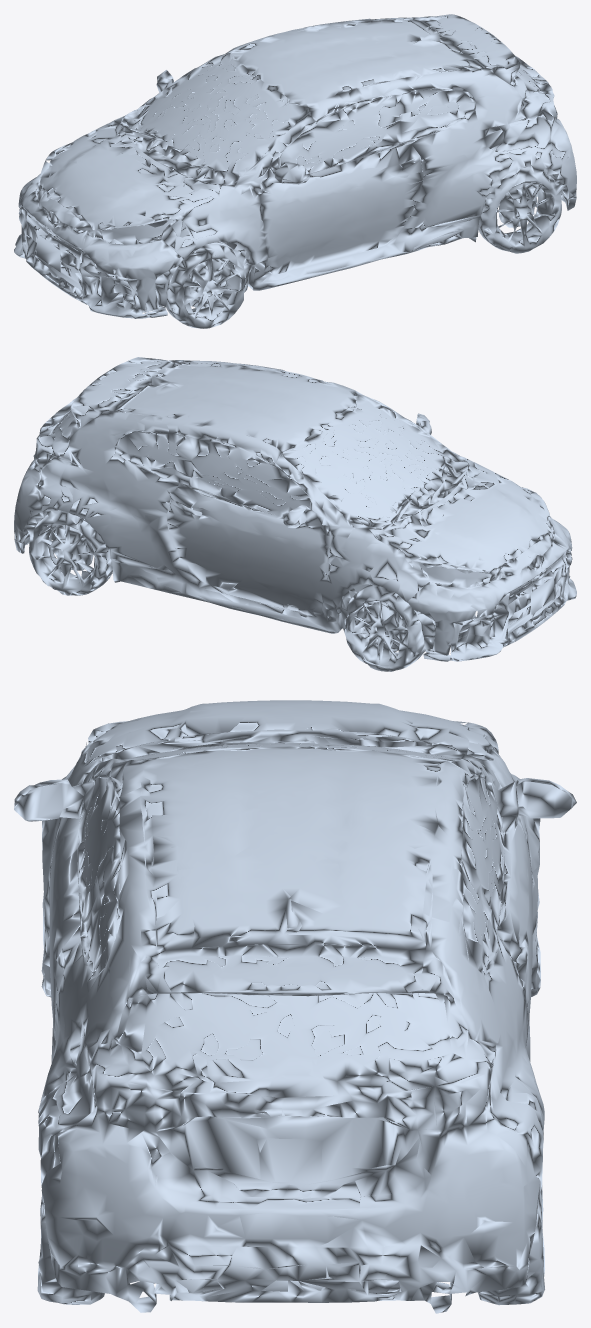
Rendered from car_wire.glb.
The picture shows the model from 3 angles, top to bottom: view 1: azimuth 30°, elevation 25°; view 2: azimuth 150°, elevation 25°; view 3: azimuth 270°, elevation 25°; orthographic projection. The views are drawn at different scales.
Visible parts, largest first — view 1: D_MJ002_O:_81580_52490_37_, D_MJ002_O:_52119_52G00_03_; view 2: D_MJ002_O:_81580_52490_37_, D_MJ002_O:_52119_52G00_03_; view 3: D_MJ002_O:_81580_52490_37_.
Boxes of the visible parts, x1,y1,x2,y2 form: D_MJ002_O:_81580_52490_37_: (14, 14, 576, 328); D_MJ002_O:_52119_52G00_03_: (18, 174, 183, 312); D_MJ002_O:_81580_52490_37_: (14, 357, 576, 671); D_MJ002_O:_52119_52G00_03_: (407, 517, 572, 655); D_MJ002_O:_81580_52490_37_: (14, 700, 576, 1313).
Bounding box in the file's own units: 4 × 1.45 × 2.
